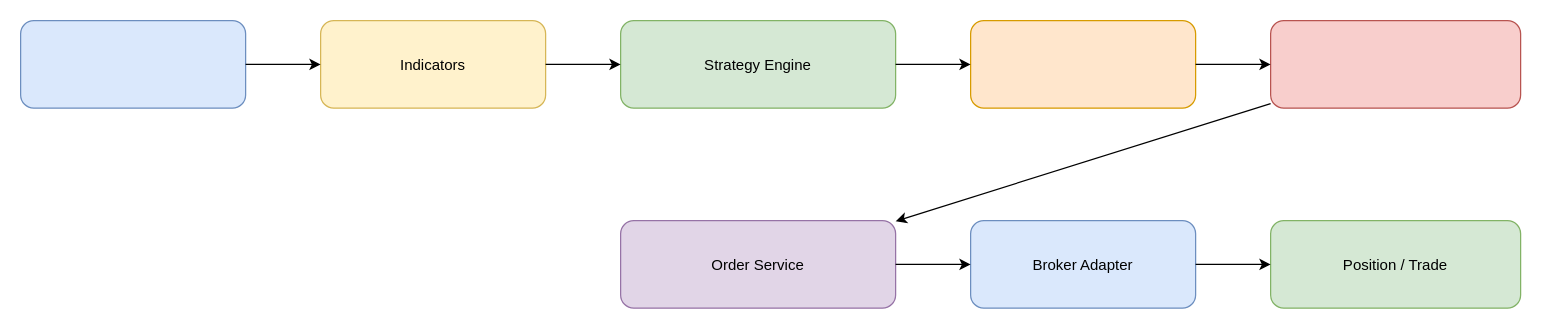
This 1541x329 diagram has some shape labels left out. The shapes that lost their labels are listed below. From the top down, each one's centre as x and y in pixels, then its label:
At (x=132, y=63): "Market Data (Tick / Candle)".
At (x=1082, y=63): "Trading Signal".
At (x=1395, y=63): "Risk Management".
